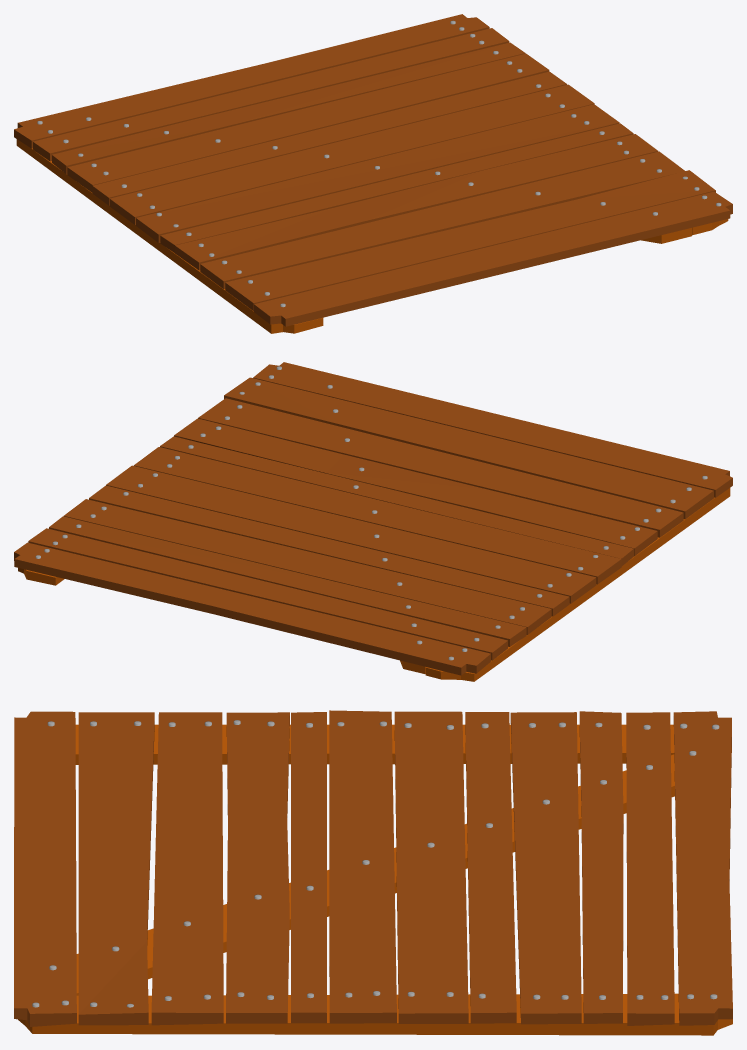
File: WoodenFloor.fbx
The picture shows the model from 3 angles, top to bottom: view 1: azimuth 30°, elevation 25°; view 2: azimuth 150°, elevation 25°; view 3: azimuth 270°, elevation 25°; orthographic projection. The views are drawn at different scales.
Parts seen in each view (by area): view 1: WoodenFloor_LOD0; view 2: WoodenFloor_LOD0; view 3: WoodenFloor_LOD0.
Part boxes in pixels (<box>): WoodenFloor_LOD0: <box>14,14,732,333</box>; WoodenFloor_LOD0: <box>14,362,732,681</box>; WoodenFloor_LOD0: <box>14,710,732,1035</box>.
Size of what is drawn, in the model's own units: 1852 by 76.95 by 1855.
